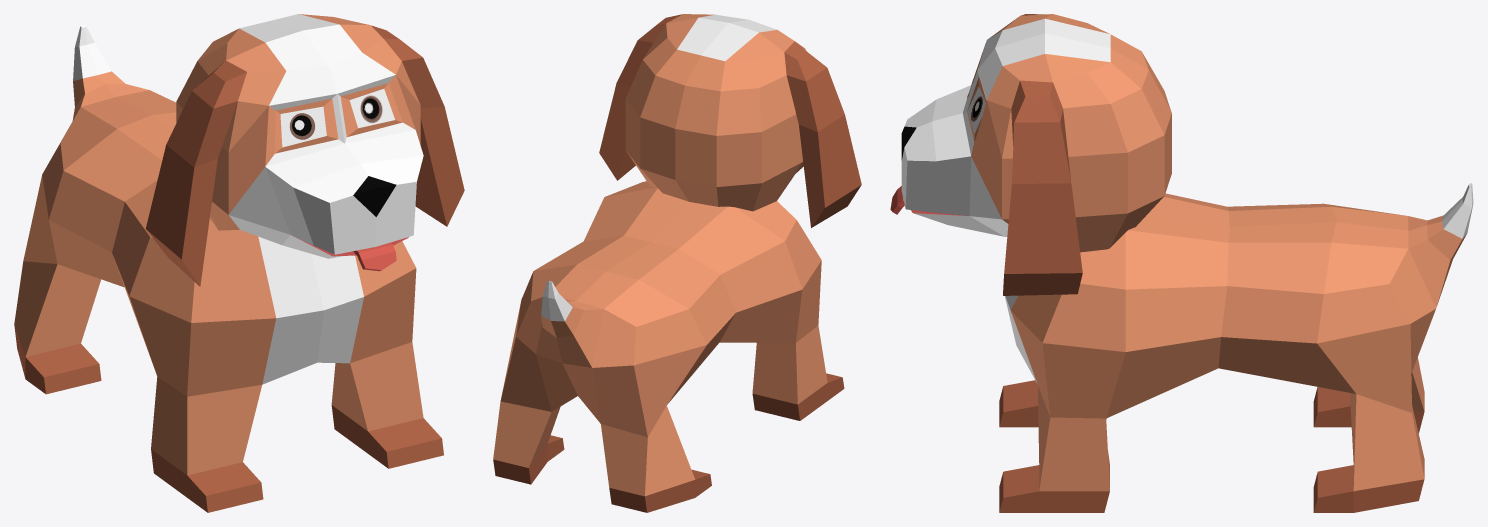
The model's file is dog.fbx.
3 renders of one model, left to right at view 1: azimuth 30°, elevation 25°; view 2: azimuth 150°, elevation 25°; view 3: azimuth 270°, elevation 25°, orthographic. The views are drawn at different scales.
Parts seen in each view (by area): view 1: Body, Head; view 2: Body, Head; view 3: Body, Head.
Boxes of the visible parts, <box> form: Body: <box>14,24,443,512</box>; Head: <box>145,14,464,286</box>; Body: <box>493,181,844,512</box>; Head: <box>599,14,861,227</box>; Body: <box>999,183,1473,512</box>; Head: <box>890,14,1171,295</box>.
Size of the model in its own units: 23.21 by 34.19 by 42.64.
